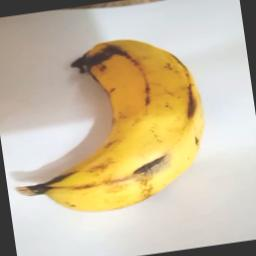Banana Unripe: (0, 23, 221, 220)
